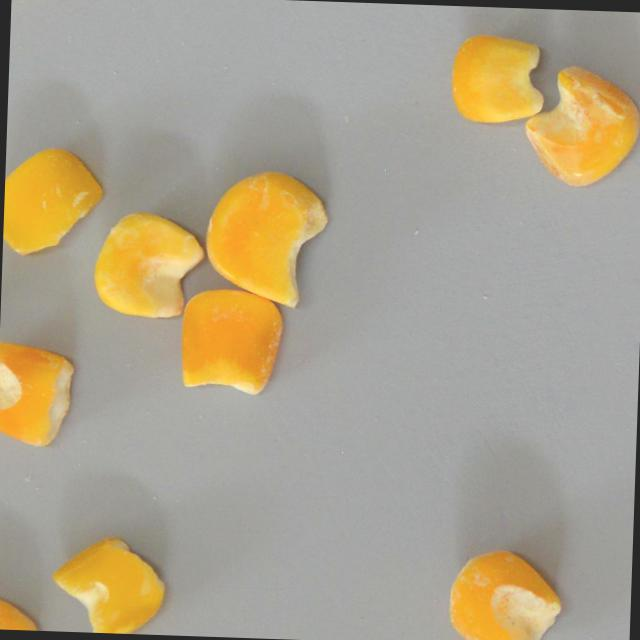dañado: (521, 61, 640, 190), (172, 280, 288, 395), (46, 530, 173, 635), (2, 137, 107, 260), (0, 329, 85, 454)
no_canjicado: (446, 28, 550, 128)
pelicula: (200, 166, 332, 309), (90, 205, 207, 321), (0, 586, 44, 631)
punto_negro: (444, 541, 567, 640)
